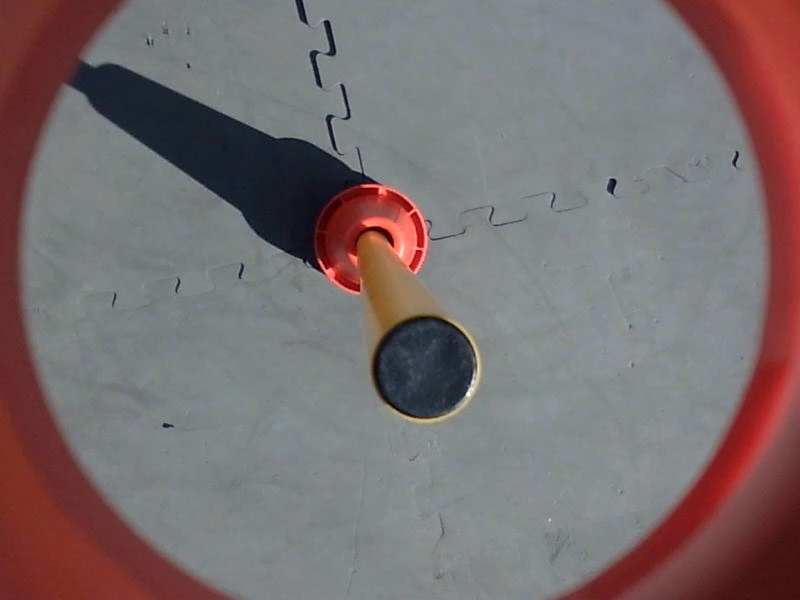tip: (365, 308, 489, 425)
